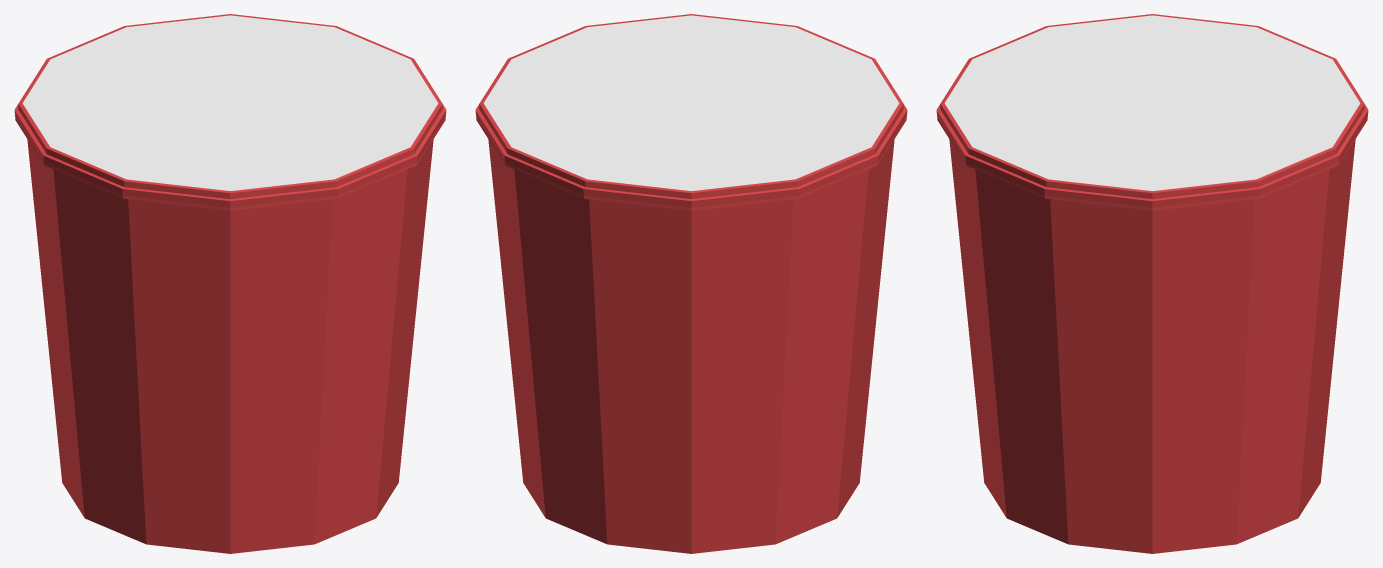
File: IceCreamBucketWLid_TFSGJ_Spring2025.fbx
The picture shows the model from 3 angles, left to right: view 1: azimuth 30°, elevation 25°; view 2: azimuth 150°, elevation 25°; view 3: azimuth 270°, elevation 25°; orthographic projection.
Parts seen in each view (by area): view 1: Ice Cream Bucket; view 2: Ice Cream Bucket; view 3: Ice Cream Bucket.
Boxes of the visible parts, bbox=[...] form: Ice Cream Bucket: bbox=[14, 14, 446, 553]; Ice Cream Bucket: bbox=[475, 14, 907, 553]; Ice Cream Bucket: bbox=[936, 14, 1368, 553].
Size of the model in its own units: 20.37 by 19.74 by 20.37.
